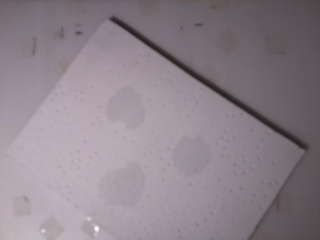Water_detected: (102, 92, 140, 129), (102, 173, 141, 209), (178, 139, 217, 173)
